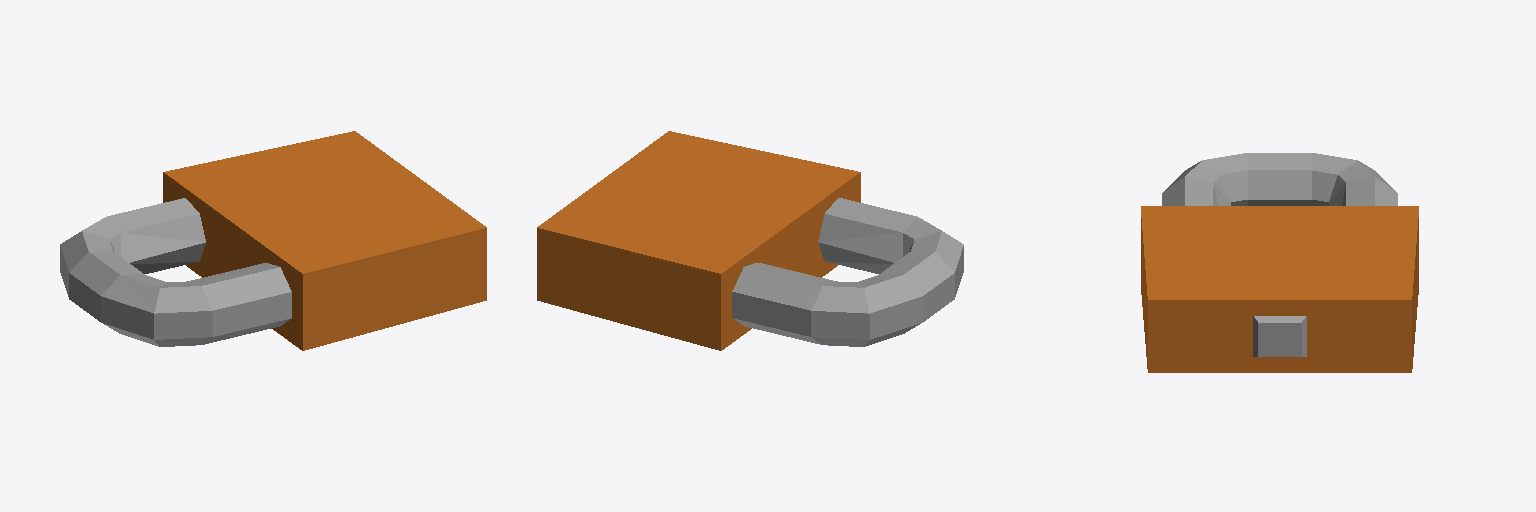
File: lock.obj
3 views of the same model, side by side, from view 1: azimuth 30°, elevation 25°; view 2: azimuth 150°, elevation 25°; view 3: azimuth 270°, elevation 25° (orthographic).
Parts seen in each view (by area): view 1: lock; view 2: lock; view 3: lock.
Boxes of the visible parts, <box> form: lock: <box>60,131,486,350</box>; lock: <box>537,131,963,350</box>; lock: <box>1141,153,1418,372</box>.
Bounding box in the file's own units: 0.6482 × 0.1398 × 0.4577.